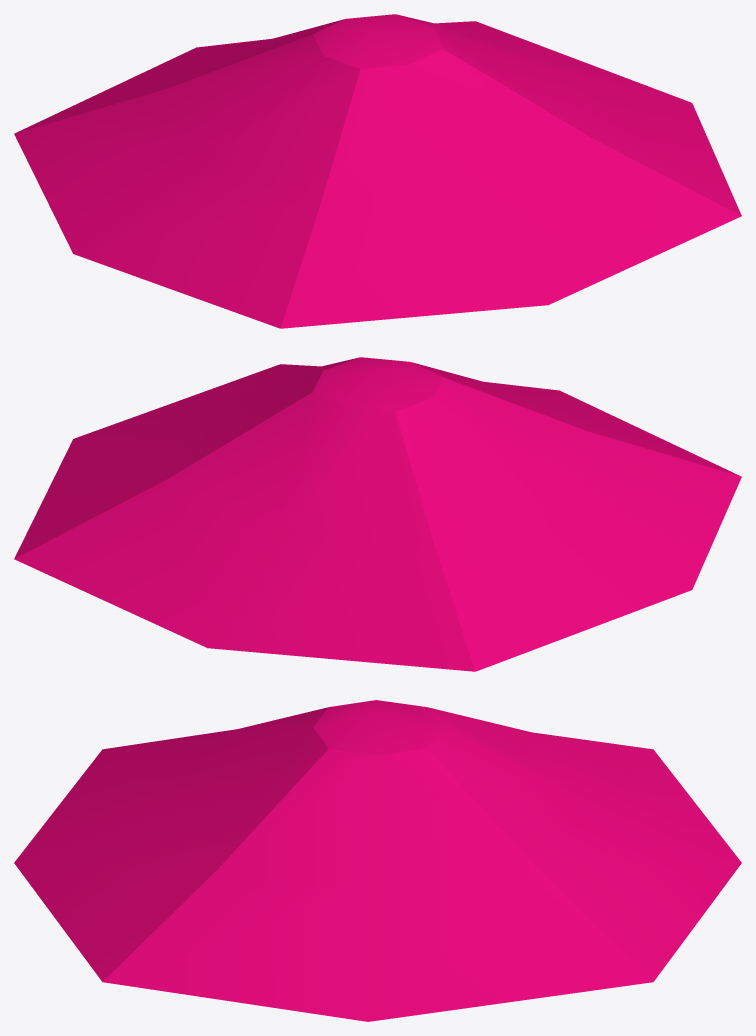
File: Wood_Ash.fbx
3 renders of one model, top to bottom at view 1: azimuth 30°, elevation 25°; view 2: azimuth 150°, elevation 25°; view 3: azimuth 270°, elevation 25°, orthographic. The views are drawn at different scales.
Parts seen in each view (by area): view 1: Wood_Ash; view 2: Wood_Ash; view 3: Wood_Ash.
Boxes of the visible parts, bbox=[...] form: Wood_Ash: bbox=[14, 14, 741, 328]; Wood_Ash: bbox=[14, 357, 741, 671]; Wood_Ash: bbox=[14, 700, 741, 1021].
Size of the model in its own units: 52.45 by 11.94 by 51.66.
